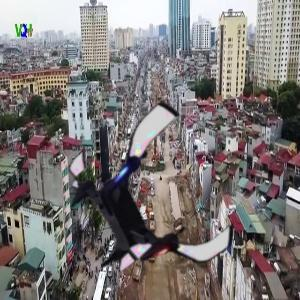drone: (63, 114, 244, 295)
